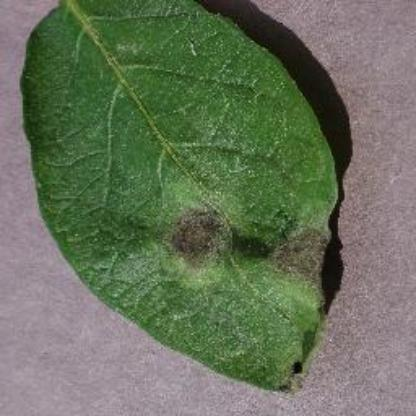Late-Blight: (24, 0, 348, 396)
